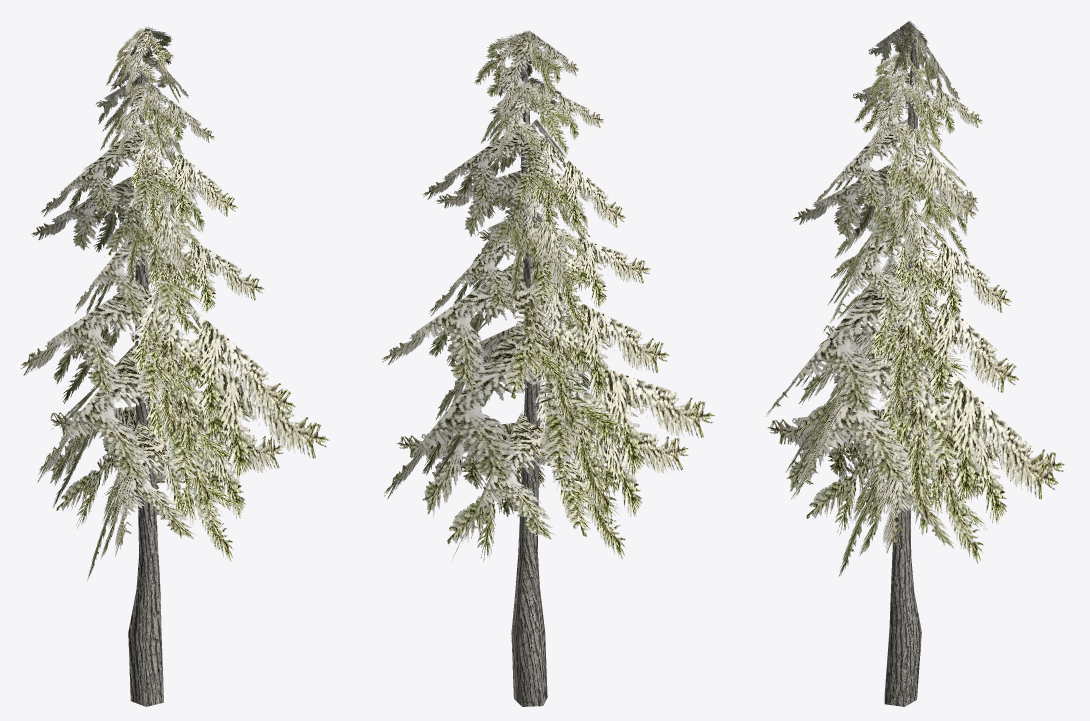
File: Tree03.fbx
The picture shows the model from 3 angles, left to right: view 1: azimuth 30°, elevation 25°; view 2: azimuth 150°, elevation 25°; view 3: azimuth 270°, elevation 25°; orthographic projection.
Parts seen in each view (by area): view 1: Tree_Pine_Snowy_T2; view 2: Tree_Pine_Snowy_T2; view 3: Tree_Pine_Snowy_T2.
Boxes of the visible parts, <box> form: Tree_Pine_Snowy_T2: <box>21,26,329,706</box>; Tree_Pine_Snowy_T2: <box>382,30,714,706</box>; Tree_Pine_Snowy_T2: <box>765,20,1064,706</box>.
Size of the model in its own units: 8.72 by 19.02 by 7.99.
